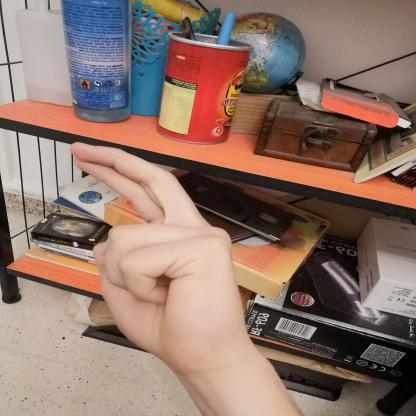ZAY: (55, 134, 259, 377)
